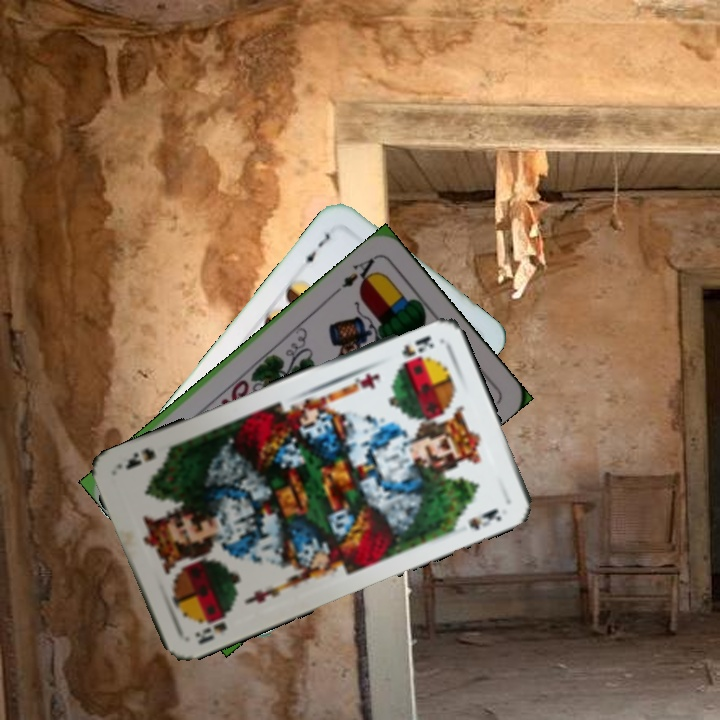E7: (296, 229, 333, 270)
EA: (331, 251, 381, 296)
SK: (191, 606, 237, 647), (397, 331, 437, 360)
